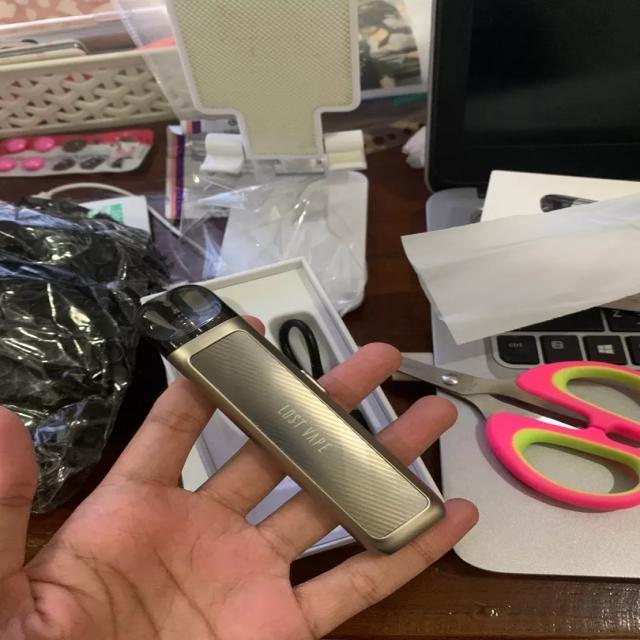Hazard: (130, 282, 448, 558)
